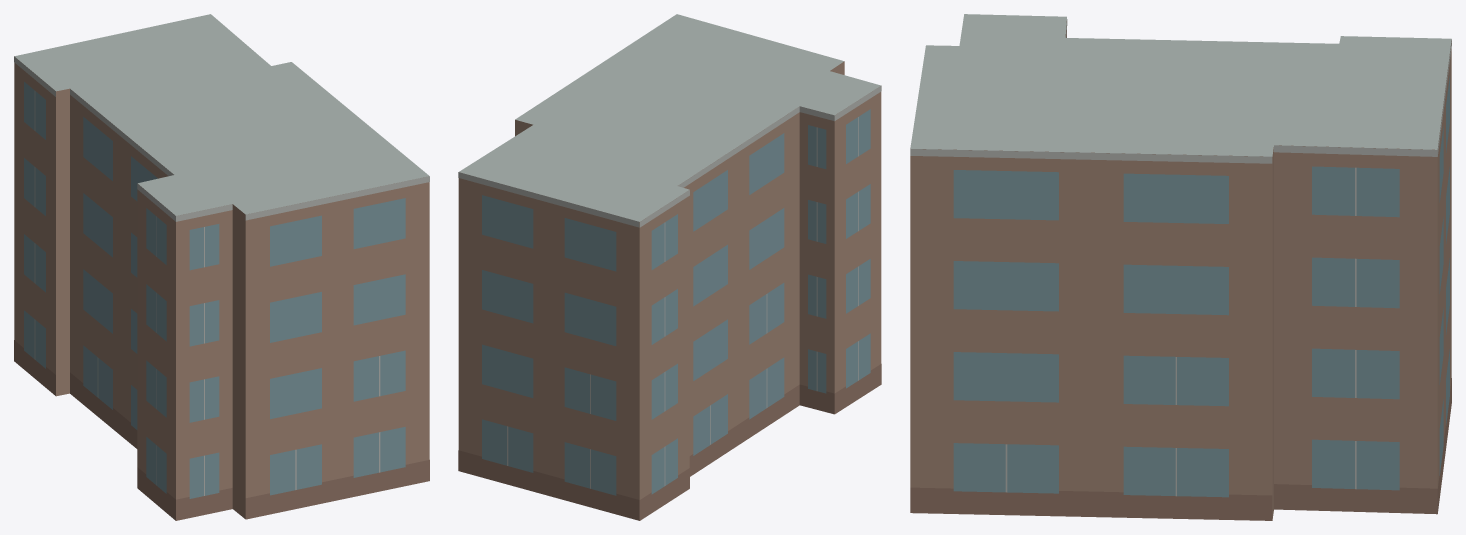
The model's file is survey-upis-32946787.glb.
3 views of the same model, side by side, from view 1: azimuth 30°, elevation 25°; view 2: azimuth 150°, elevation 25°; view 3: azimuth 270°, elevation 25° (orthographic). The views are drawn at different scales.
Visible parts, largest first — view 1: survey-upis-32946787.tmp; view 2: survey-upis-32946787.tmp; view 3: survey-upis-32946787.tmp.
Boxes of the visible parts, x1,y1,x2,y2 form: survey-upis-32946787.tmp: [14, 14, 429, 520]; survey-upis-32946787.tmp: [458, 14, 881, 520]; survey-upis-32946787.tmp: [910, 14, 1451, 520].
Bounding box in the file's own units: 10.51 × 12.5 × 16.85.
